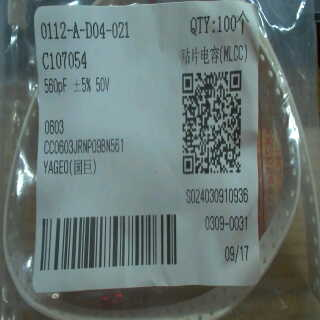560pF: (41, 71, 74, 96)
